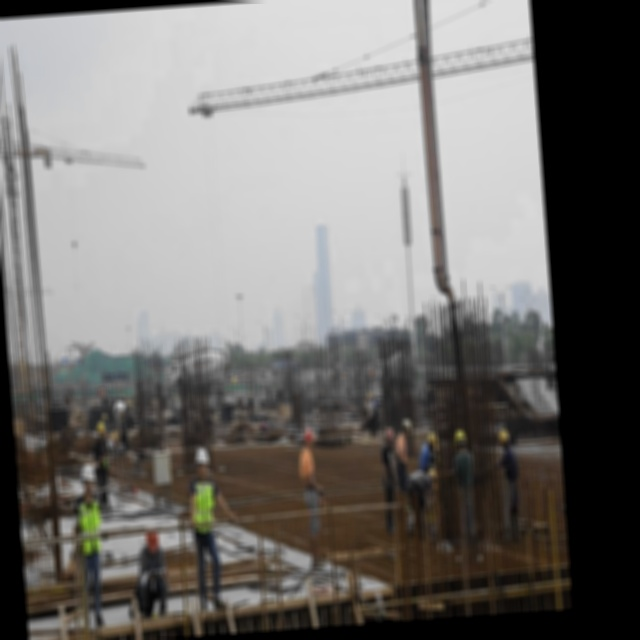Con_Casco: (80, 462, 97, 492), (195, 447, 210, 476)
Con_Chaleco: (75, 497, 103, 555), (190, 479, 220, 533)
